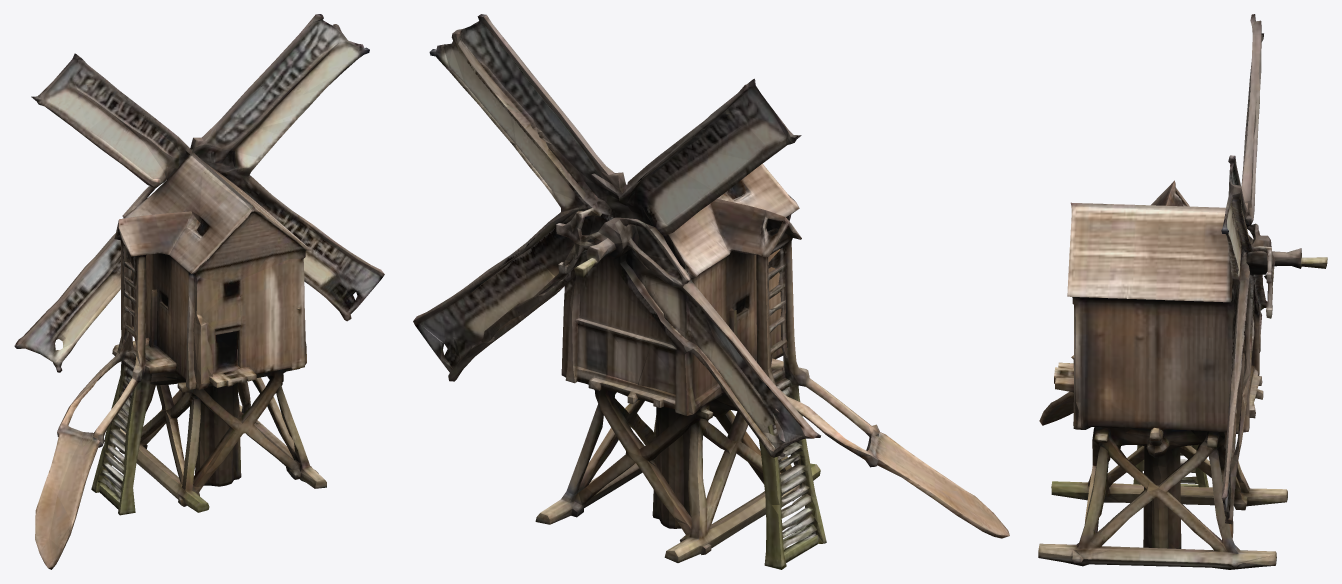
Rendered from ga3_windmill_lod0.glb.
3 views of the same model, side by side, from view 1: azimuth 30°, elevation 25°; view 2: azimuth 150°, elevation 25°; view 3: azimuth 270°, elevation 25° (orthographic). The views are drawn at different scales.
Visible parts, largest first — view 1: ga3_windmill_lod0; view 2: ga3_windmill_lod0; view 3: ga3_windmill_lod0.
Boxes of the visible parts, bbox=[...] form: ga3_windmill_lod0: bbox=[14, 14, 384, 569]; ga3_windmill_lod0: bbox=[413, 14, 1009, 569]; ga3_windmill_lod0: bbox=[1038, 14, 1327, 569].
Size of the model in its own units: 14.43 by 14.01 by 7.68.
1 material, 1 textured.
